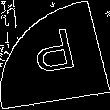P_S: (28, 27, 82, 83)
